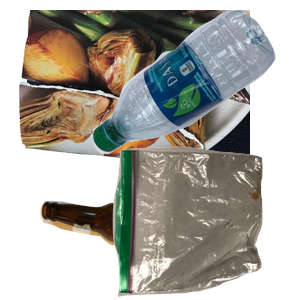glass: (37, 198, 236, 300)
paper: (16, 10, 256, 172)
plastic: (90, 10, 300, 156)
trash: (110, 144, 300, 300)
